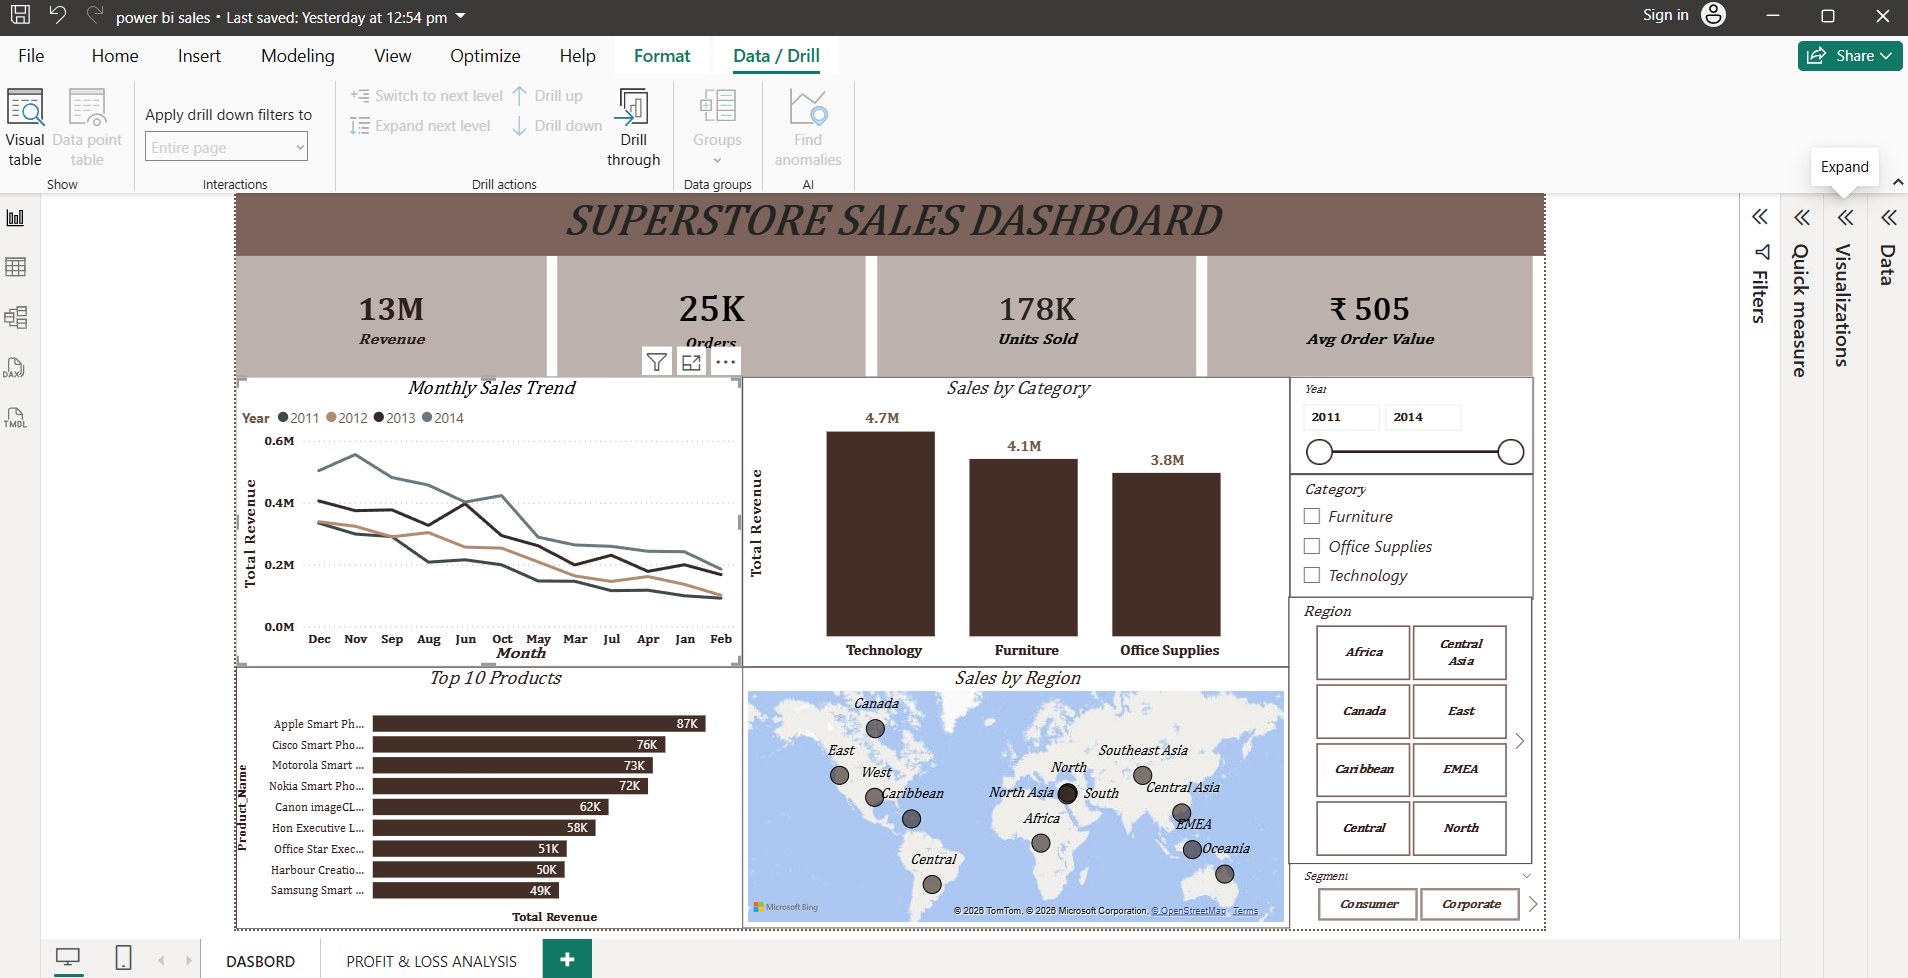

The dashboard page shown, as its layout file describes it:
{"tool":"powerbi","page":{"name":"DASBORD","canvas":[1280,720],"ordinal":0},"visuals":[{"type":"card","fields":{"Values":["Super_store.Total orders"]},"box":[314.5,61.4,301.2,118.1],"z":0},{"type":"card","fields":{"Values":["Super_store.Total Revenue"]},"box":[0,61.4,303.6,118.1],"z":1000},{"type":"card","fields":{"Values":["Super_store.Total Quantity"]},"box":[627.7,61.4,312,118.1],"z":2000},{"type":"card","fields":{"Values":["Super_store.AOV"]},"box":[950.6,61.4,318.1,118.1],"z":3000},{"type":"textbox","box":[0,0,1280.7,61.4],"z":4000},{"type":"lineChart","title":"Monthly Sales Trend","fields":{"Category":["Super_store.Month"],"Y":["Super_store.Total Revenue"],"Series":["Super_store.Year"]},"box":[0,179.5,495.2,284.3],"z":5000},{"type":"columnChart","title":"Sales by Category","fields":{"Category":["Super_store.Category"],"Y":["Super_store.Total Revenue"]},"box":[495.2,179.5,536.1,284.3],"z":6000},{"type":"barChart","title":"Top 10 Products","fields":{"Category":["Super_store.Product_Name"],"Y":["Super_store.Total Revenue"]},"box":[0,463,503,257],"z":7000},{"type":"map","title":"Sales by Region","fields":{"Category":["Super_store.Region"],"Y":["Super_store.Total Revenue"]},"box":[495,464,536,256],"z":8000},{"type":"slicer","fields":{"Values":["Super_store.Year"]},"box":[1030.8,179.8,238.5,95.4],"z":9000},{"type":"slicer","fields":{"Values":["Super_store.Category"]},"box":[1030.8,275.1,238.5,122.3],"z":10000},{"type":"slicer","fields":{"Values":["Super_store.Region"]},"box":[1029.6,395,238.5,261.7],"z":11000},{"type":"slicer","fields":{"Values":["Super_store.Segment"]},"box":[1032.1,656.7,248.2,62.4],"z":12000}]}

Visuals, with their boxes on the page's 1280x720 design canvas (x1, y1, x2, y2). These are canvas units, not pixel positions in the 1908x978 screenshot, which may show the page scaled, cropped or inside an application window:
card - Super_store.Total orders: 314 61 616 180
card - Super_store.Total Revenue: 0 61 304 180
card - Super_store.Total Quantity: 628 61 940 180
card - Super_store.AOV: 951 61 1269 180
textbox: 0 0 1281 61
"Monthly Sales Trend" lineChart: 0 180 495 464
"Sales by Category" columnChart: 495 180 1031 464
"Top 10 Products" barChart: 0 463 503 720
"Sales by Region" map: 495 464 1031 720
slicer - Super_store.Year: 1031 180 1269 275
slicer - Super_store.Category: 1031 275 1269 397
slicer - Super_store.Region: 1030 395 1268 657
slicer - Super_store.Segment: 1032 657 1280 719
